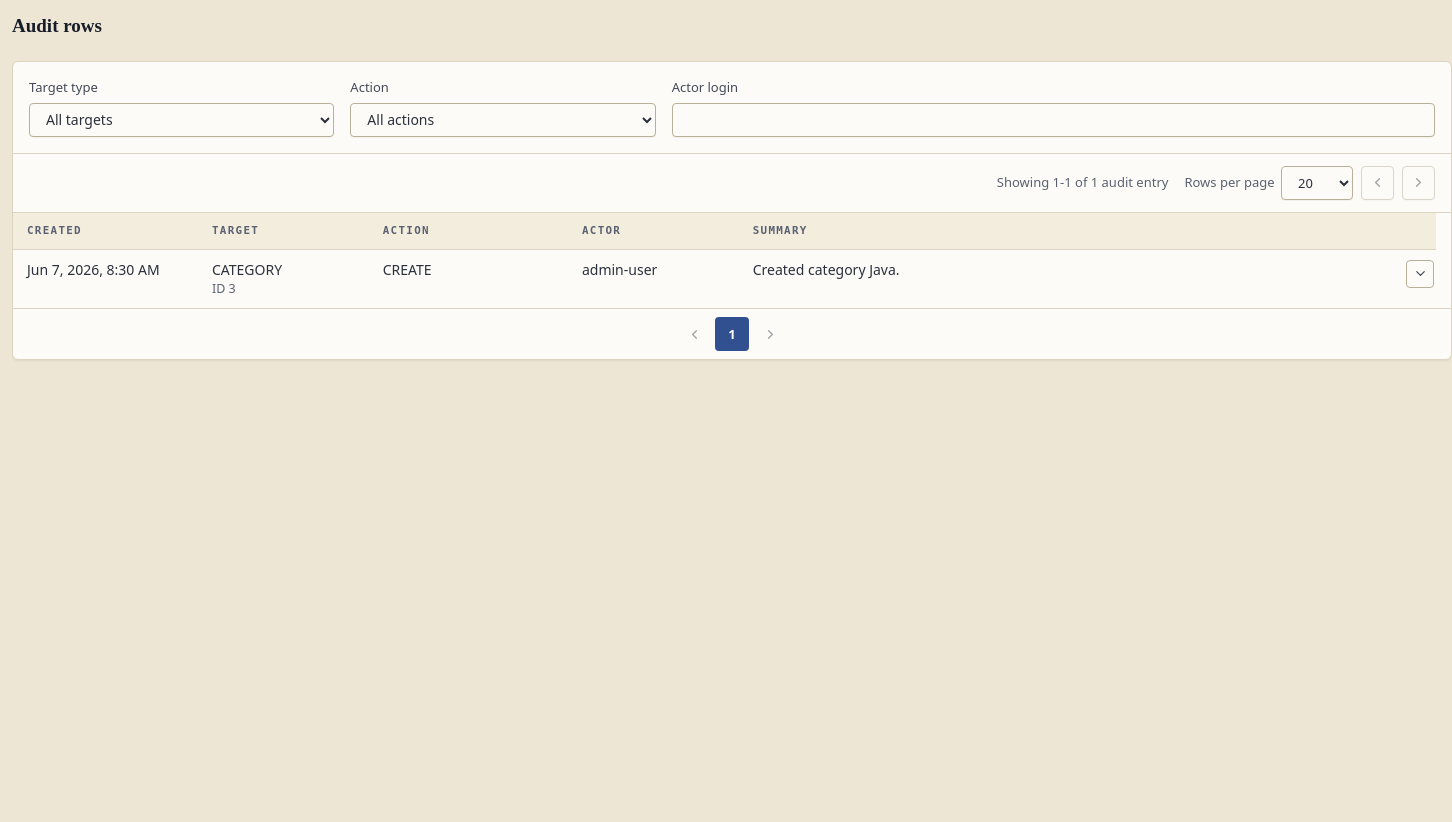
it: OperatorPage › expands inline details from a table row and handles missing details
Click the button named "Details for audit entry 2": (1420, 274) left=1406, top=260, right=1434, bottom=288
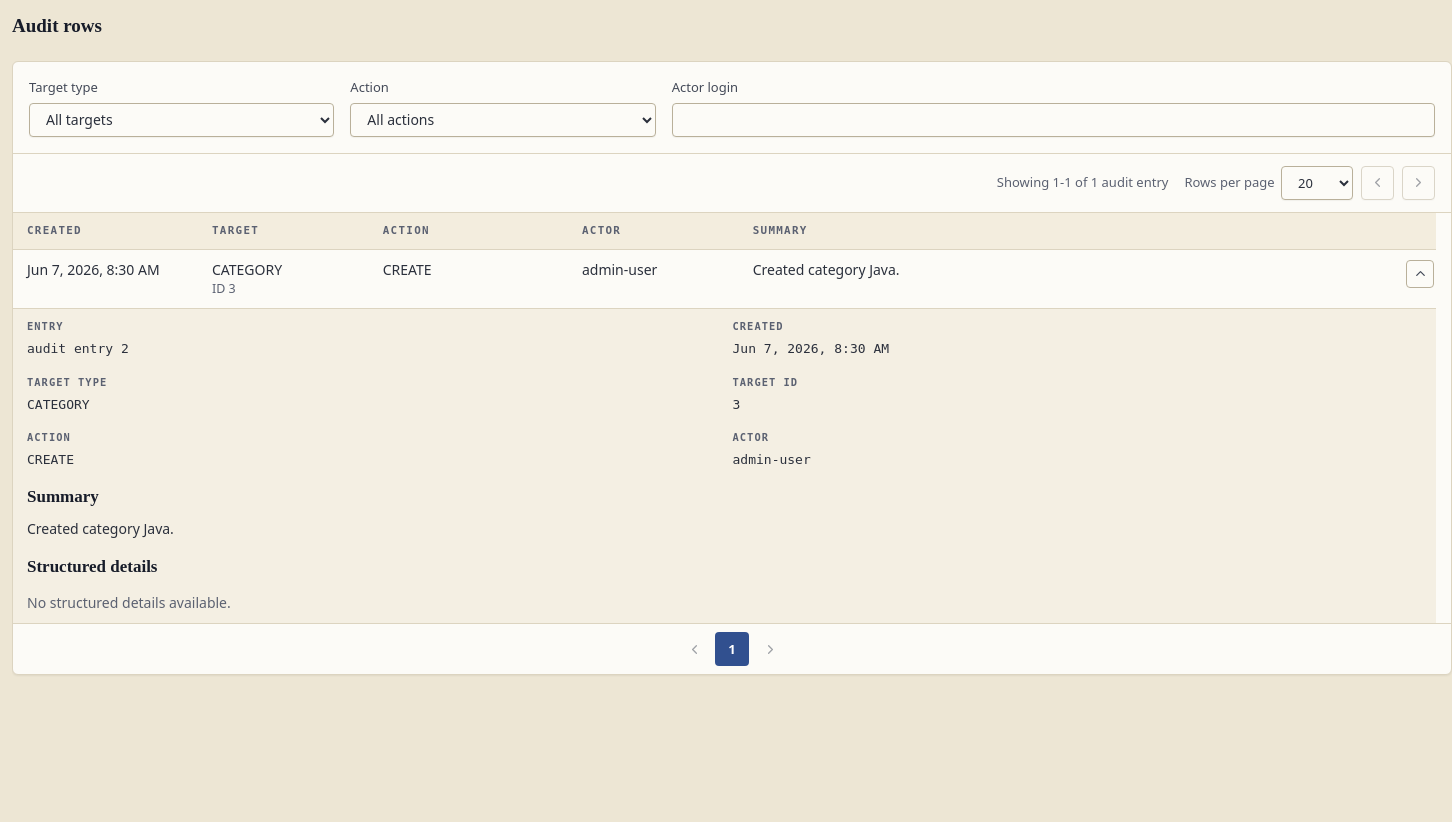
Expected: the button named "Details for audit entry 2" is expanded
Expected: the row with class "audit-detail-row" is shown, left=13, top=309, right=1436, bottom=623
Expected: the text "Created category Java." is shown, left=27, top=519, right=174, bottom=538
Click the button named "Details for audit entry 2": (1420, 274) left=1406, top=260, right=1434, bottom=288
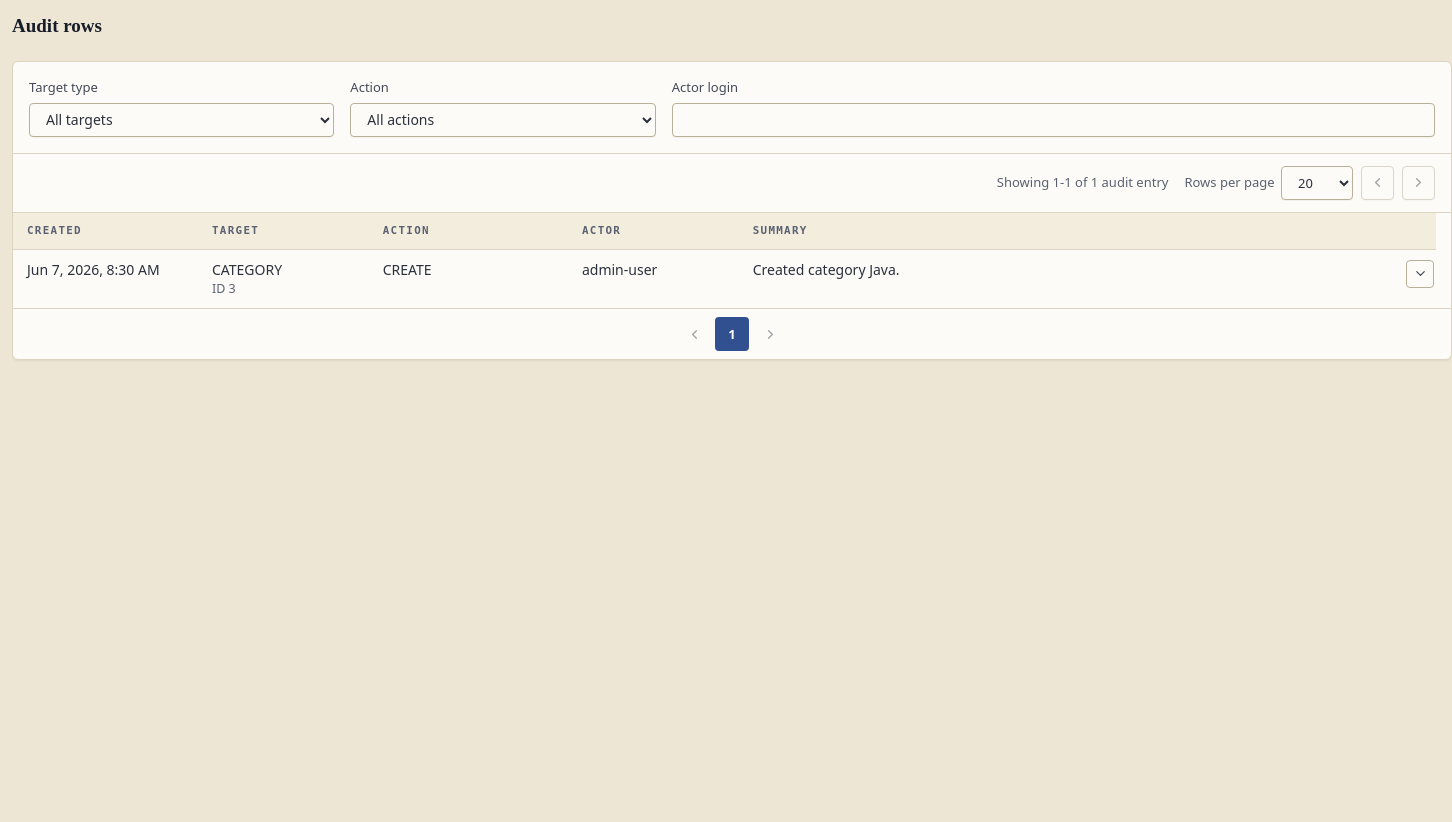
Expected: the button named "Details for audit entry 2" is collapsed, left=1406, top=260, right=1434, bottom=288
Expected: the row with class "audit-detail-row" is gone
